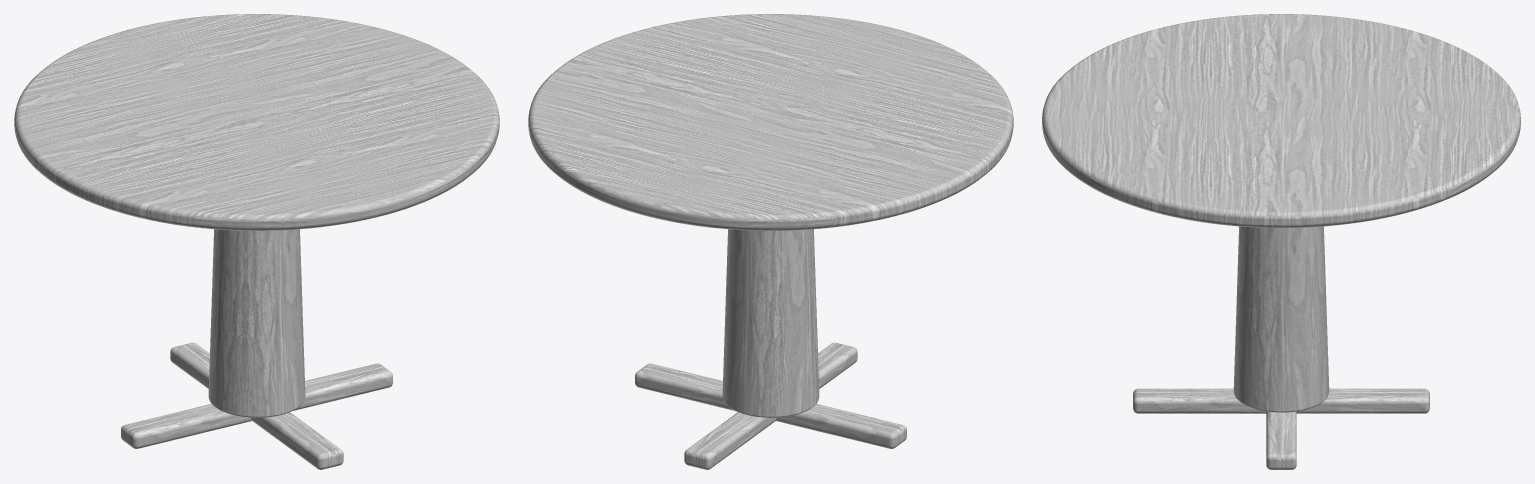
The model's file is dining-table-round.gltf.
3 renders of one model, left to right at view 1: azimuth 30°, elevation 25°; view 2: azimuth 150°, elevation 25°; view 3: azimuth 270°, elevation 25°, orthographic.
Parts seen in each view (by area): view 1: dining-table; view 2: dining-table; view 3: dining-table.
Part boxes in pixels (<box>): dining-table: <box>14,14,499,469</box>; dining-table: <box>528,14,1013,469</box>; dining-table: <box>1042,14,1520,469</box>.
Bounding box in the file's own units: 1.1 × 0.75 × 1.1.
Materials: 1 (1 with a texture image).
